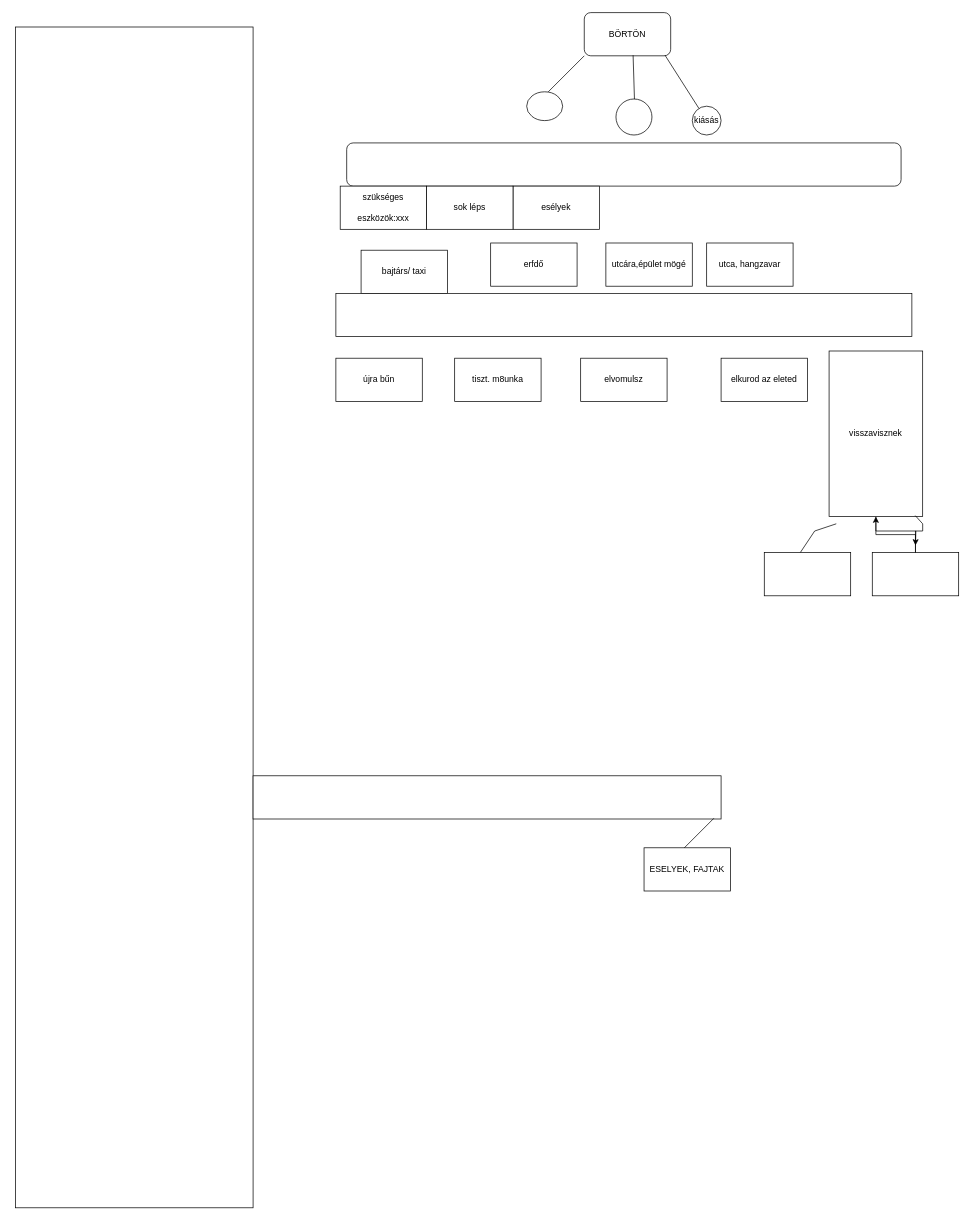
Image size: 971x1220. Some labels were removed from this diagram. Here are the shapes that lost their labels. From the top down, the box of each, then its label:
(526, 91, 563, 121): Egy kulcd
(615, 98, 652, 135): kerítés átvágás
(346, 142, 901, 186): SZÖVEG
(335, 293, 912, 337): kint vagy
(764, 552, 851, 596): öngy.
(872, 552, 959, 596): újrA
(15, 26, 253, 1208): random events
(252, 775, 721, 819): RANDOM HALAL
